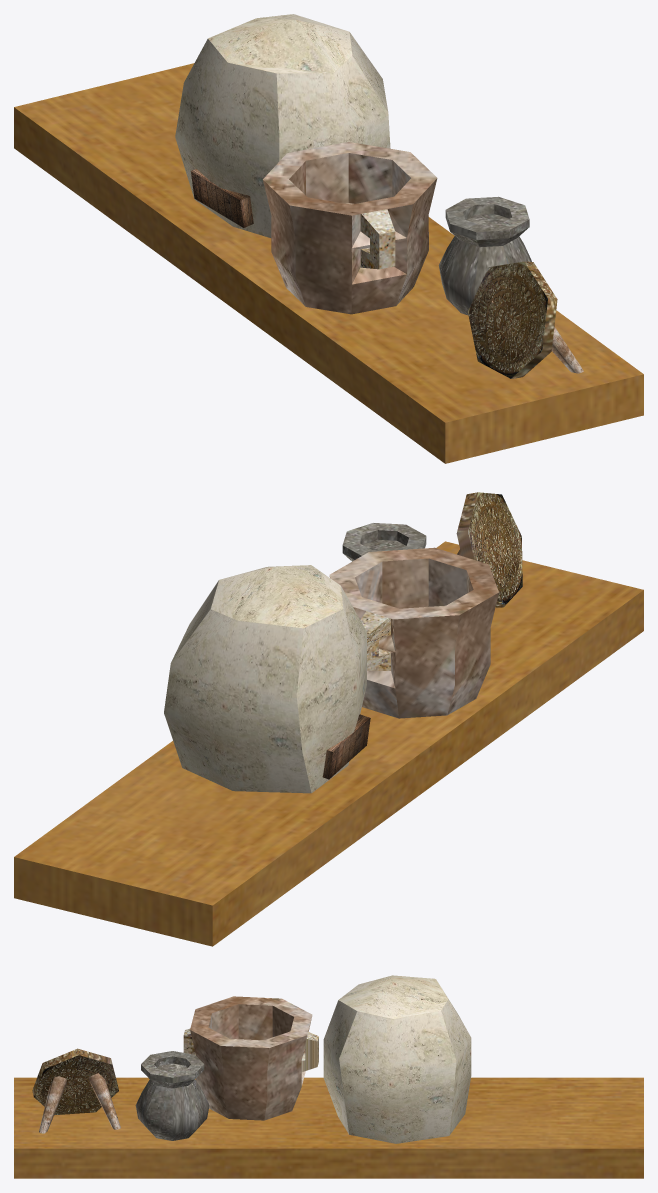
The model's file is shelf2.FBX.
The picture shows the model from 3 angles, top to bottom: view 1: azimuth 30°, elevation 25°; view 2: azimuth 150°, elevation 25°; view 3: azimuth 270°, elevation 25°; orthographic projection. The views are drawn at different scales.
Parts seen in each view (by area): view 1: Box001, Box003, Cylinder005, Cylinder001, Cylinder004, Object001, Box004, Cylinder003; view 2: Box001, Box003, Cylinder005, Cylinder001, Cylinder004, Box004, Object001; view 3: Box001, Box003, Cylinder005, Cylinder004, Cylinder001, Cylinder003, Object001.
Part boxes in pixels (bbox=[...]): Box001: bbox=[14, 63, 643, 463]; Box003: bbox=[175, 14, 390, 237]; Cylinder005: bbox=[263, 142, 437, 314]; Cylinder001: bbox=[468, 261, 557, 378]; Cylinder004: bbox=[438, 196, 531, 315]; Object001: bbox=[360, 209, 395, 269]; Box004: bbox=[190, 168, 253, 227]; Cylinder003: bbox=[492, 300, 583, 373]; Box001: bbox=[14, 541, 643, 946]; Box003: bbox=[164, 565, 366, 793]; Cylinder005: bbox=[329, 547, 498, 718]; Cylinder001: bbox=[456, 492, 522, 607]; Cylinder004: bbox=[342, 523, 426, 561]; Box004: bbox=[322, 714, 370, 779]; Object001: bbox=[360, 611, 390, 670]; Box001: bbox=[14, 1077, 643, 1178]; Box003: bbox=[323, 975, 471, 1143]; Cylinder005: bbox=[190, 996, 312, 1120]; Cylinder004: bbox=[135, 1051, 209, 1140]; Cylinder001: bbox=[32, 1048, 118, 1115]; Cylinder003: bbox=[39, 1073, 120, 1133]; Object001: bbox=[183, 1028, 318, 1071].
Size of the model in its own units: 29.35 by 31.24 by 107.
7 materials, 7 textured.
